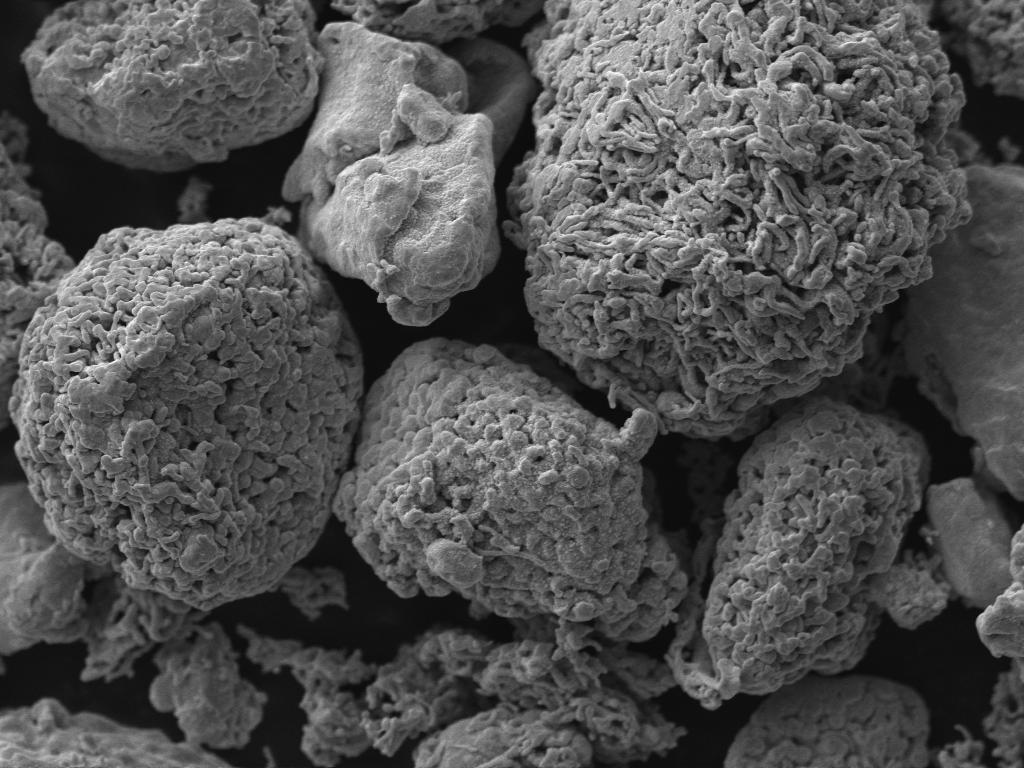Powder: (506, 0, 970, 437), (10, 178, 362, 610), (334, 338, 686, 641), (666, 398, 946, 708), (282, 22, 536, 326), (240, 624, 684, 766), (22, 0, 322, 171), (904, 166, 1024, 499), (80, 576, 266, 750), (0, 114, 74, 427), (724, 674, 930, 767), (0, 698, 228, 768), (0, 484, 86, 653), (976, 526, 1024, 766), (926, 478, 1012, 607), (332, 1, 542, 43), (942, 0, 1024, 99), (278, 566, 348, 622), (936, 724, 984, 768)
